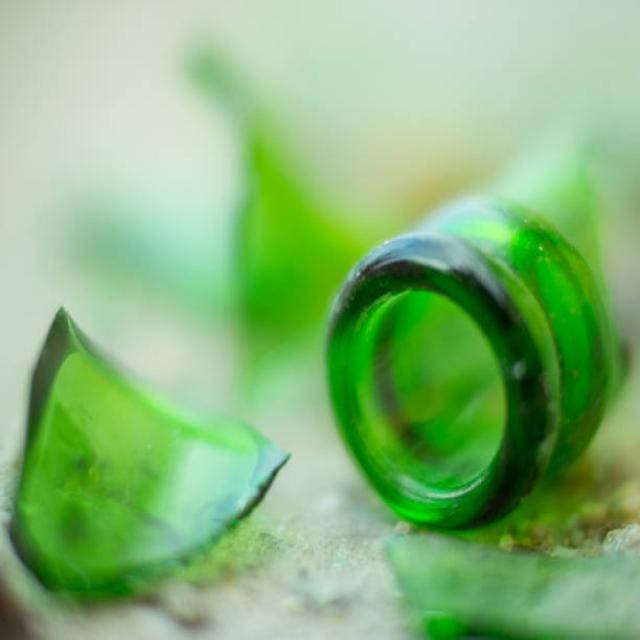electronic: (7, 135, 640, 596)
